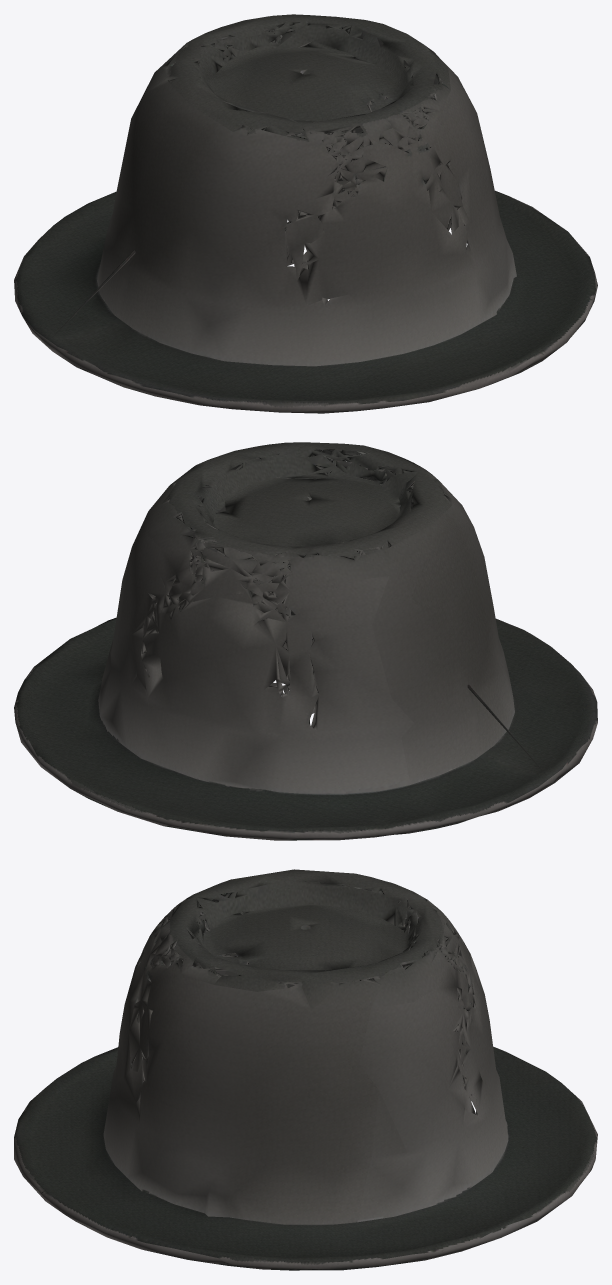
Rendered from sombrero.glb.
The picture shows the model from 3 angles, top to bottom: view 1: azimuth 30°, elevation 25°; view 2: azimuth 150°, elevation 25°; view 3: azimuth 270°, elevation 25°; orthographic projection.
Parts seen in each view (by area): view 1: temp_mesh.ply; view 2: temp_mesh.ply; view 3: temp_mesh.ply.
Part boxes in pixels (x1,y1,x2,y2): temp_mesh.ply: [14, 14, 597, 413]; temp_mesh.ply: [14, 442, 597, 840]; temp_mesh.ply: [14, 869, 597, 1270].
Size of the model in its own units: 0.34 by 0.1445 by 0.3383.
1 material, 1 textured.
